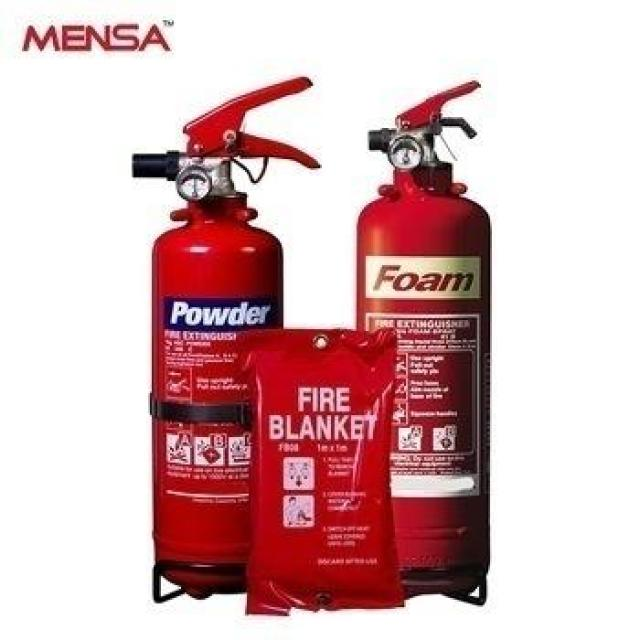fire_extinguisher: (125, 72, 323, 601), (346, 72, 498, 606)
